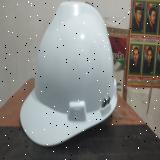Helmet: (20, 2, 117, 146)
